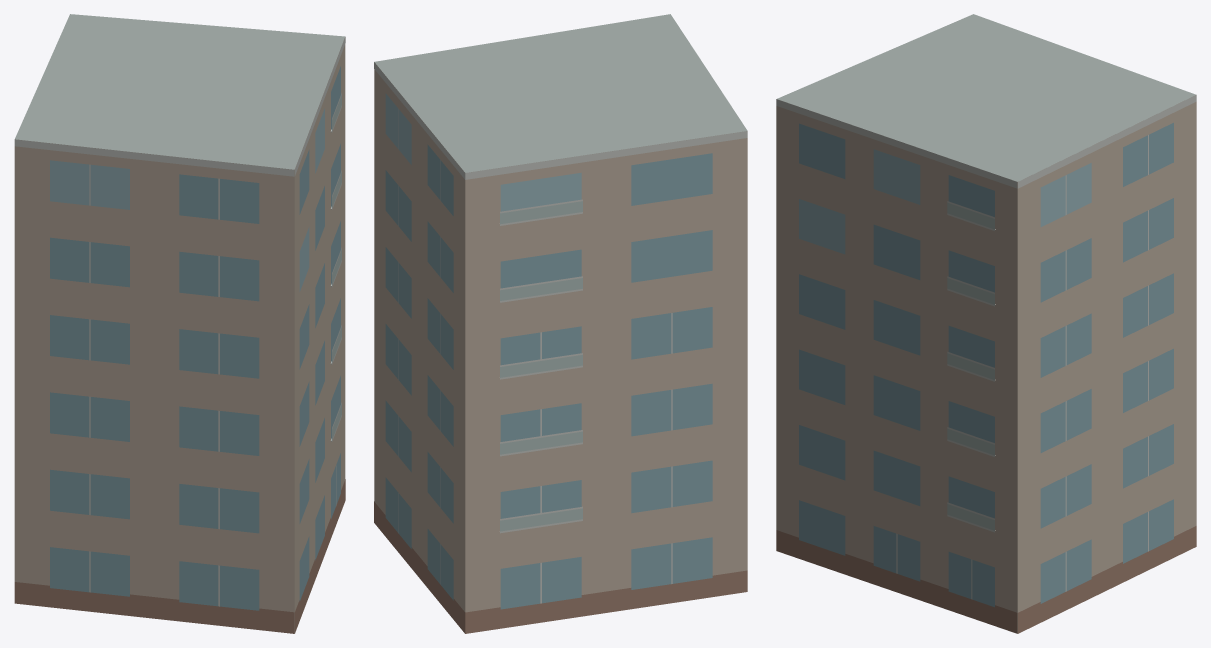
The model's file is survey-upis-32524274.glb.
The picture shows the model from 3 angles, left to right: view 1: azimuth 30°, elevation 25°; view 2: azimuth 150°, elevation 25°; view 3: azimuth 270°, elevation 25°; orthographic projection. The views are drawn at different scales.
Visible parts, largest first — view 1: survey-upis-32524274.tmp; view 2: survey-upis-32524274.tmp; view 3: survey-upis-32524274.tmp.
Boxes of the visible parts, left/top/right/bottom form: survey-upis-32524274.tmp: left=14, top=14, right=345, bottom=633; survey-upis-32524274.tmp: left=374, top=14, right=747, bottom=633; survey-upis-32524274.tmp: left=776, top=14, right=1196, bottom=633.
Bounding box in the file's own units: 12.92 × 16.2 × 13.65.
